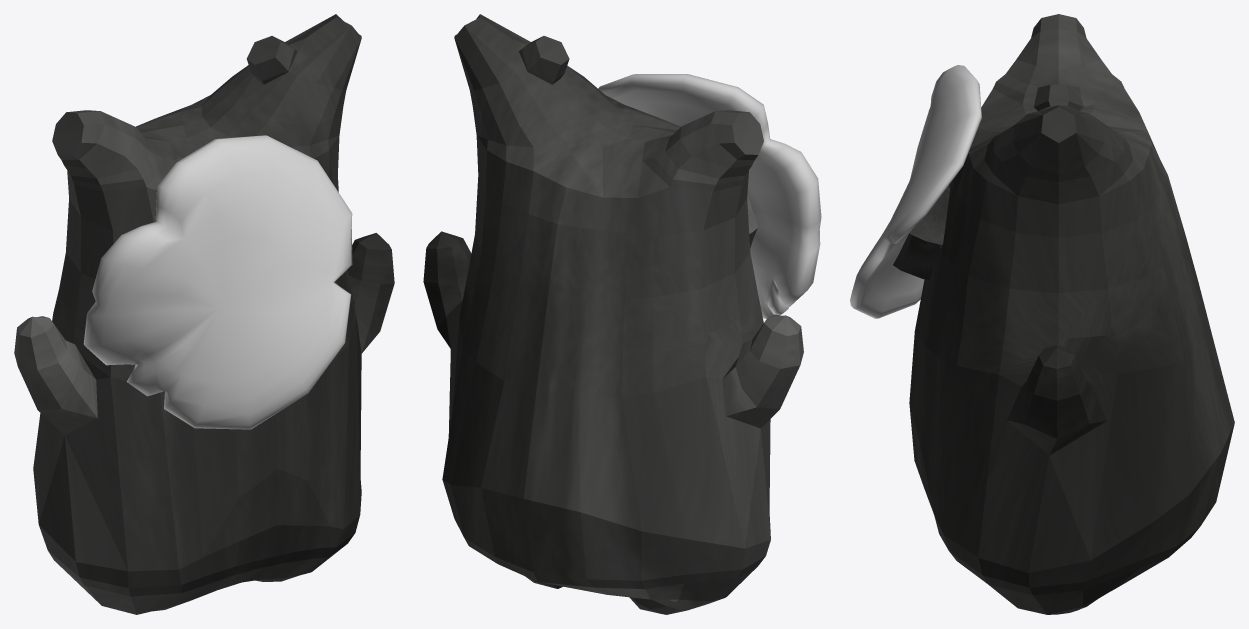
The model's file is frame_0061.obj.
3 renders of one model, left to right at view 1: azimuth 30°, elevation 25°; view 2: azimuth 150°, elevation 25°; view 3: azimuth 270°, elevation 25°, orthographic.
Visible parts, largest first — view 1: korok, leaf; view 2: korok, leaf; view 3: korok, leaf, nose.
Boxes of the visible parts, <box> form: korok: <box>14,14,394,614</box>; leaf: <box>83,135,352,429</box>; korok: <box>423,14,803,614</box>; leaf: <box>598,74,821,318</box>; korok: <box>909,14,1234,614</box>; leaf: <box>850,65,981,318</box>; nose: <box>893,185,949,280</box>.
Size of the model in its own units: 1.53 by 2.13 by 1.38.
